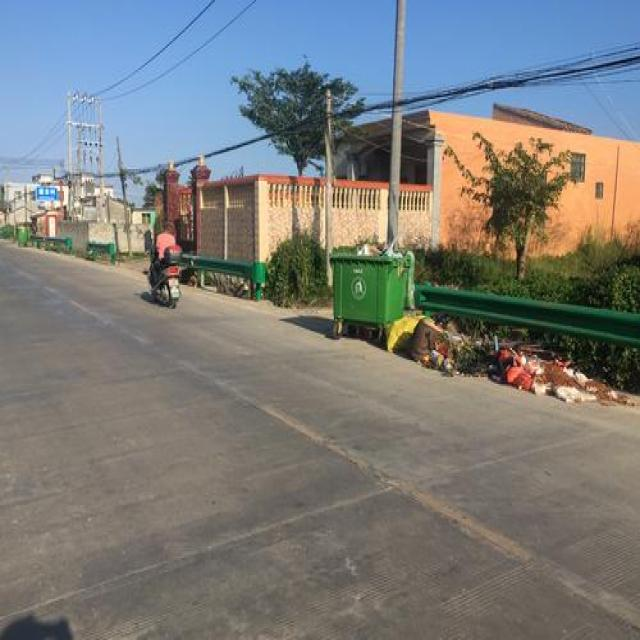garbage: (385, 309, 630, 404)
overflow: (330, 237, 412, 323)
